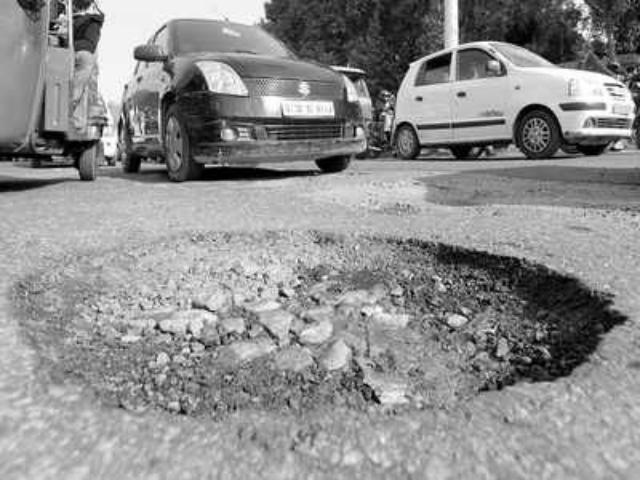Pothole: (11, 213, 640, 419)
